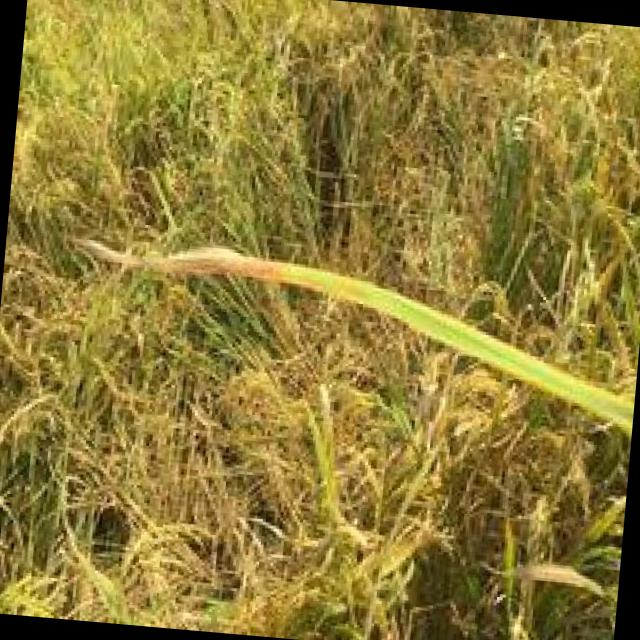Rice_Bacterial_Blight: (56, 186, 489, 359)
